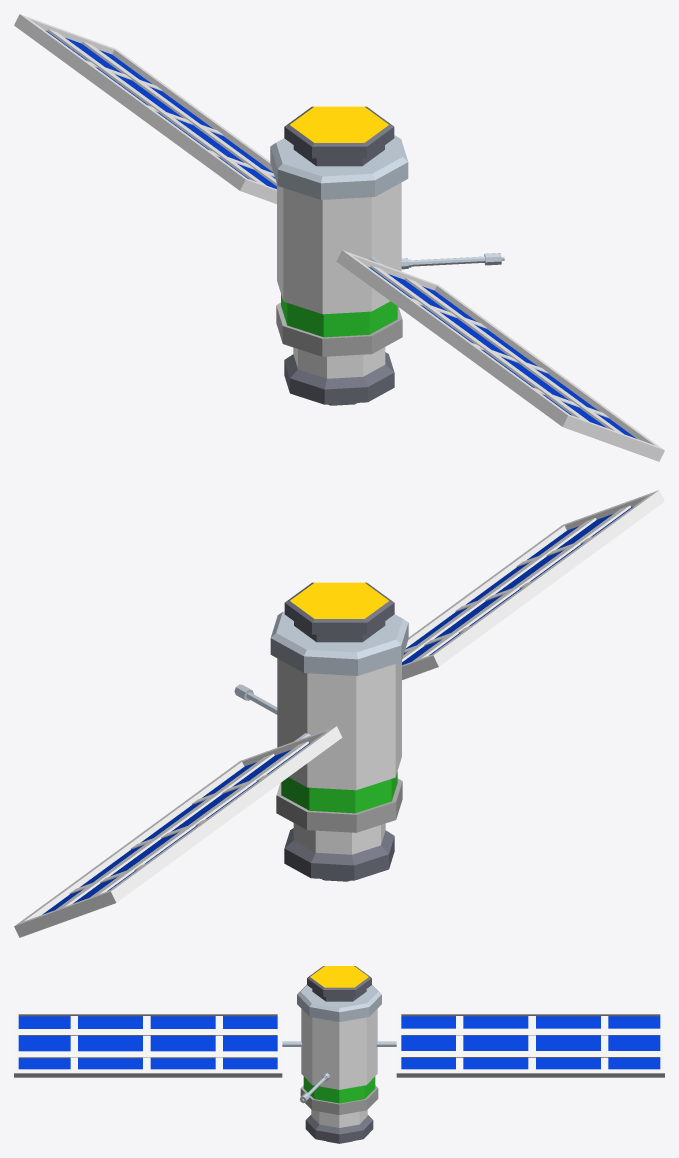
The model's file is Satellite10.glb.
3 views of the same model, one above another, from view 1: azimuth 30°, elevation 25°; view 2: azimuth 150°, elevation 25°; view 3: azimuth 270°, elevation 25° (orthographic). The views are drawn at different scales.
Parts seen in each view (by area): view 1: Satellite10-main, Satellite10-PanelRight, Satellite10-PanelLeft, Satellite10-head, Satellite10-antenna; view 2: Satellite10-main, Satellite10-PanelLeft, Satellite10-PanelRight, Satellite10-head; view 3: Satellite10-PanelLeft, Satellite10-PanelRight, Satellite10-main, Satellite10-head.
Part boxes in pixels (bbox=[...]): Satellite10-main: bbox=[270, 135, 408, 405]; Satellite10-PanelRight: bbox=[336, 250, 664, 461]; Satellite10-PanelLeft: bbox=[14, 14, 276, 203]; Satellite10-head: bbox=[284, 106, 394, 166]; Satellite10-antenna: bbox=[401, 253, 504, 269]; Satellite10-main: bbox=[270, 611, 408, 881]; Satellite10-PanelLeft: bbox=[14, 726, 342, 937]; Satellite10-PanelRight: bbox=[402, 490, 664, 679]; Satellite10-head: bbox=[284, 582, 394, 642]; Satellite10-PanelLeft: bbox=[376, 1010, 664, 1077]; Satellite10-PanelRight: bbox=[14, 1010, 302, 1077]; Satellite10-main: bbox=[297, 984, 381, 1143]; Satellite10-head: bbox=[307, 966, 371, 1001].
Bounding box in the file's own units: 3.51 × 4.58 × 16.99.
